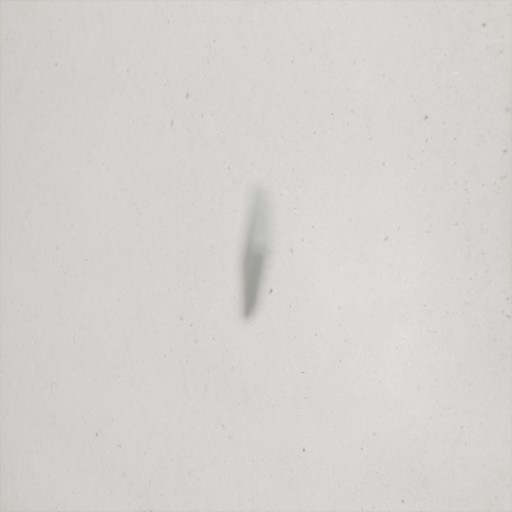lego: (239, 184, 274, 322)
